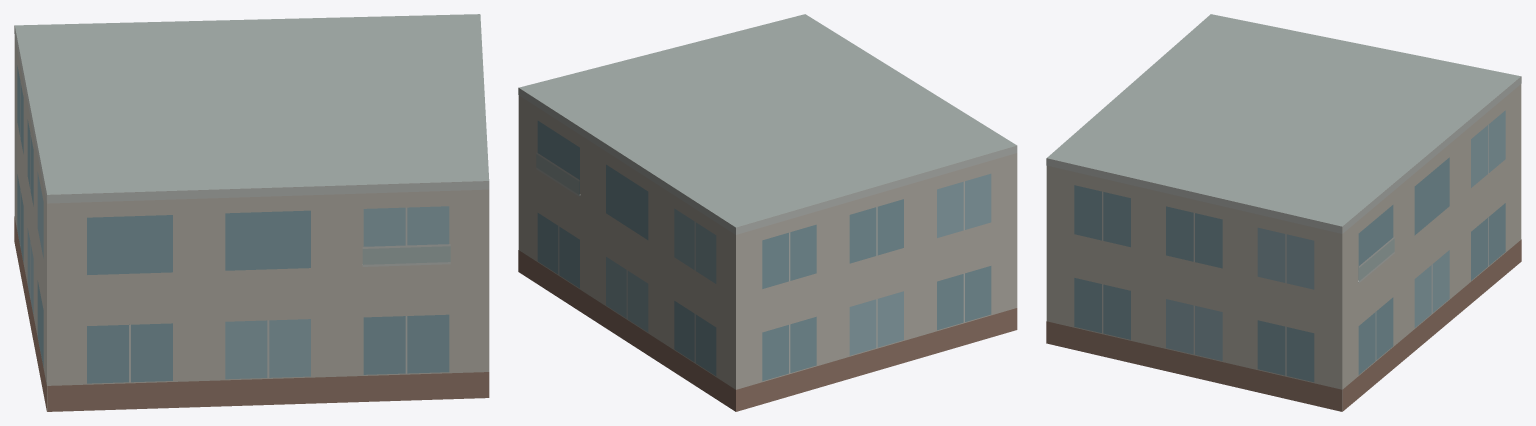
The model's file is survey-upis-32913497.glb.
3 renders of one model, left to right at view 1: azimuth 30°, elevation 25°; view 2: azimuth 150°, elevation 25°; view 3: azimuth 270°, elevation 25°, orthographic. The views are drawn at different scales.
Visible parts, largest first — view 1: survey-upis-32913497.tmp; view 2: survey-upis-32913497.tmp; view 3: survey-upis-32913497.tmp.
Boxes of the visible parts, x1,y1,x2,y2 form: survey-upis-32913497.tmp: (14,14,489,411); survey-upis-32913497.tmp: (518,14,1017,411); survey-upis-32913497.tmp: (1046,14,1521,411).
Bounding box in the file's own units: 15.02 × 6.1 × 14.18.
